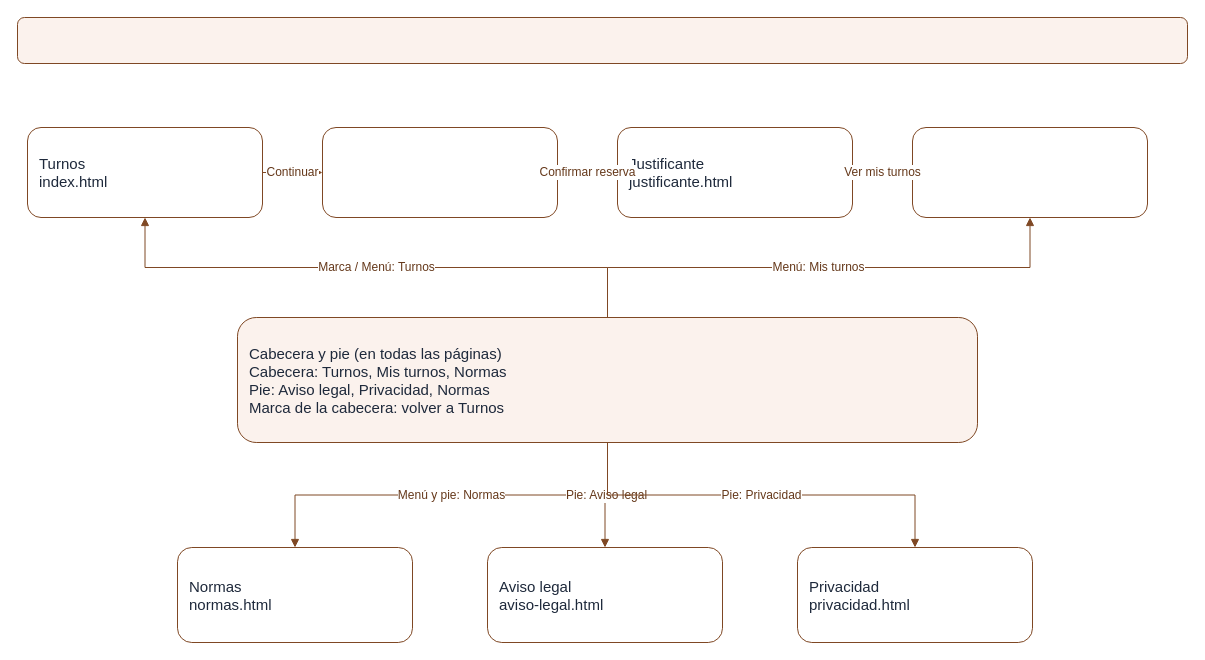
Some shapes in this 1205 by 660 pixel diagram are drawn without their labels. Each missing label, with the centre of its shape:
"Confirmar reserva reserva.html" goes at point 440,172.
"FLUJO PRINCIPAL · Turnos → Confirmar → Justificante → Mis turnos" goes at point 602,40.
"Mis turnos mis-turnos.html" goes at point 1030,172.
